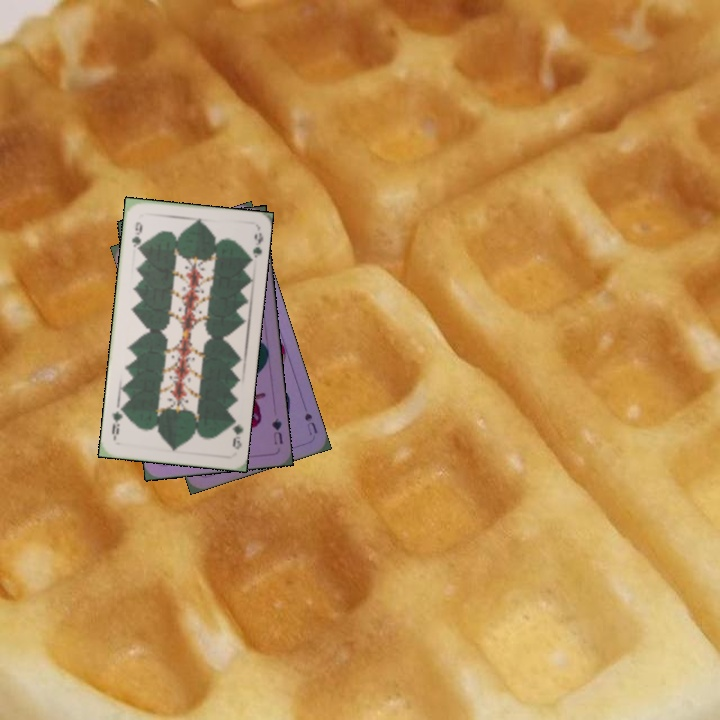G9: (226, 413, 246, 452), (128, 218, 145, 254)
GU: (268, 414, 286, 447)
SU: (300, 409, 320, 438)
